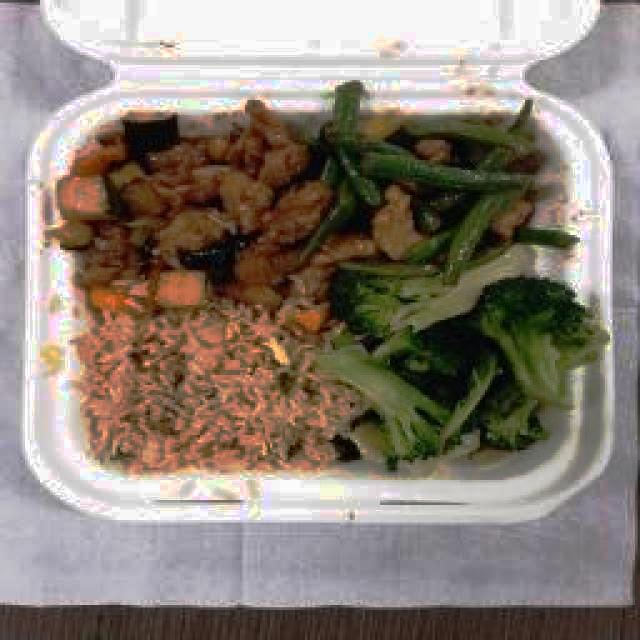Fried Rice: (86, 318, 344, 465)
Kung Pao Chicken: (66, 111, 300, 300)
String Bean Chicken Breast: (303, 82, 540, 280)
